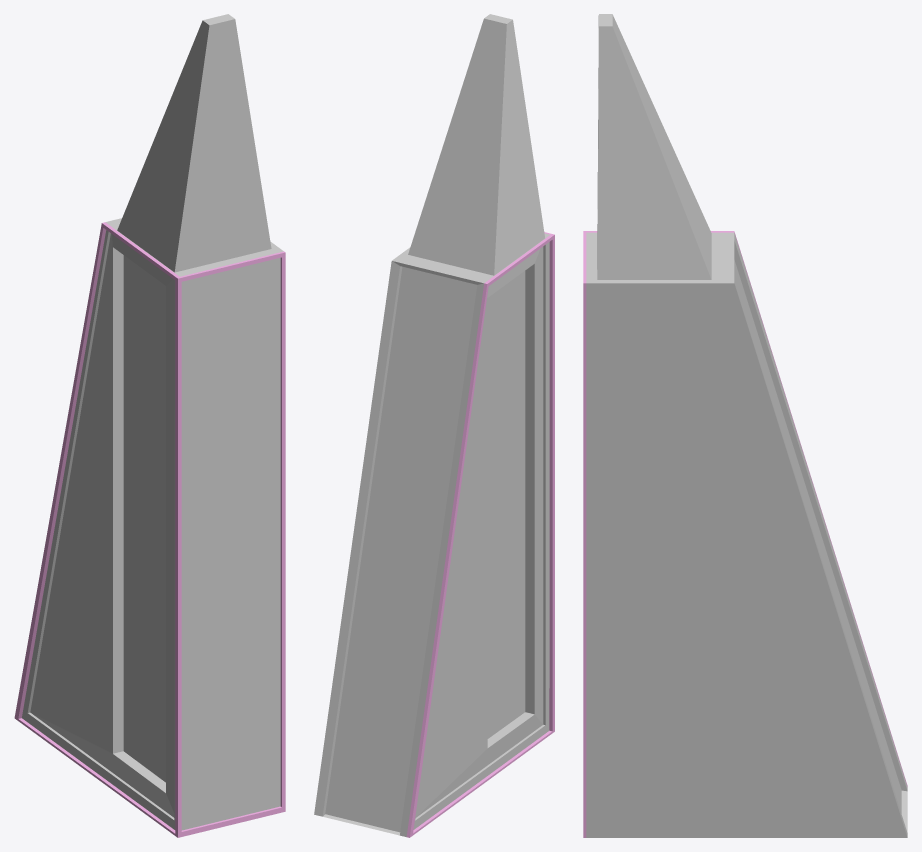
Rendered from SM_Environment_Buildings_Mid_03.fbx.
The picture shows the model from 3 angles, left to right: view 1: azimuth 30°, elevation 25°; view 2: azimuth 150°, elevation 25°; view 3: azimuth 270°, elevation 25°; orthographic projection. The views are drawn at different scales.
Parts seen in each view (by area): view 1: SM_Environment_Buildings_Mid_03, Lights; view 2: SM_Environment_Buildings_Mid_03, Lights; view 3: SM_Environment_Buildings_Mid_03, Lights.
Boxes of the visible parts, <box> form: SM_Environment_Buildings_Mid_03: <box>22,14,283,830</box>; Lights: <box>14,222,285,837</box>; SM_Environment_Buildings_Mid_03: <box>314,14,550,836</box>; Lights: <box>406,232,554,837</box>; SM_Environment_Buildings_Mid_03: <box>586,14,907,837</box>; Lights: <box>583,231,907,837</box>.
Size of the model in its own units: 5.84 by 41.33 by 15.35.
